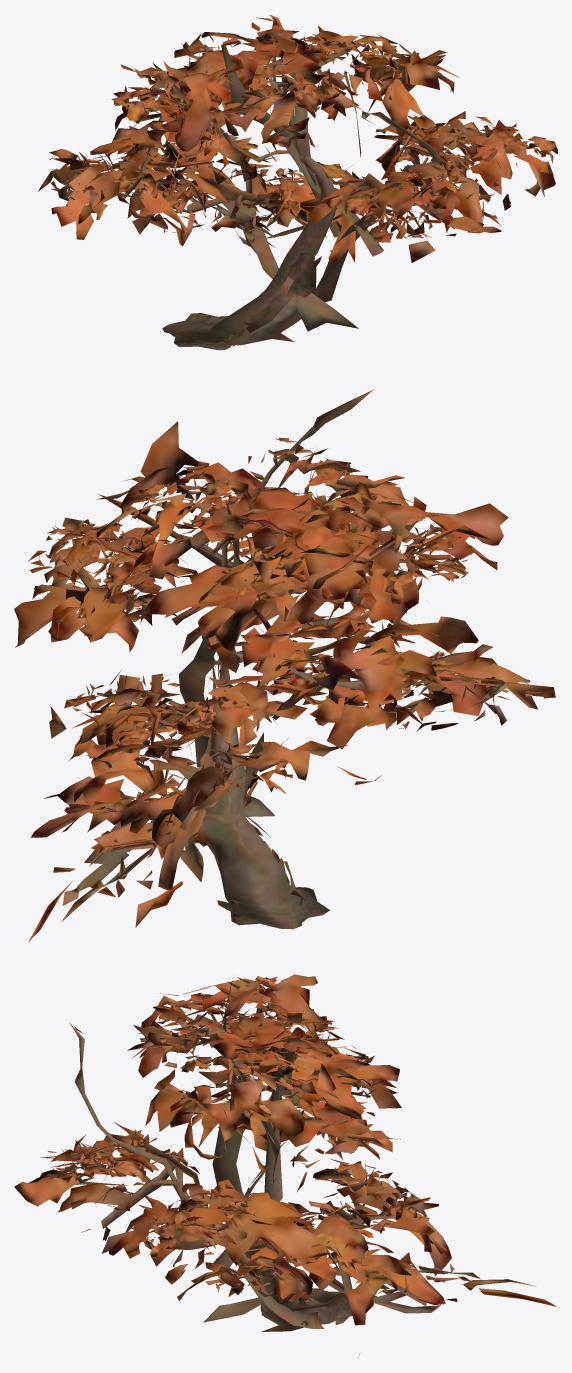
File: tree_05_flattop_amber.glb
3 views of the same model, one above another, from view 1: azimuth 30°, elevation 25°; view 2: azimuth 150°, elevation 25°; view 3: azimuth 270°, elevation 25° (orthographic). The views are drawn at different scales.
Parts seen in each view (by area): view 1: geometry_0; view 2: geometry_0; view 3: geometry_0.
Part boxes in pixels (x1,y1,x2,y2): geometry_0: [38, 14, 557, 350]; geometry_0: [14, 389, 555, 941]; geometry_0: [14, 974, 556, 1357].
Bounding box in the file's own units: 1.37 × 1 × 1.45.
1 material, 1 textured.
